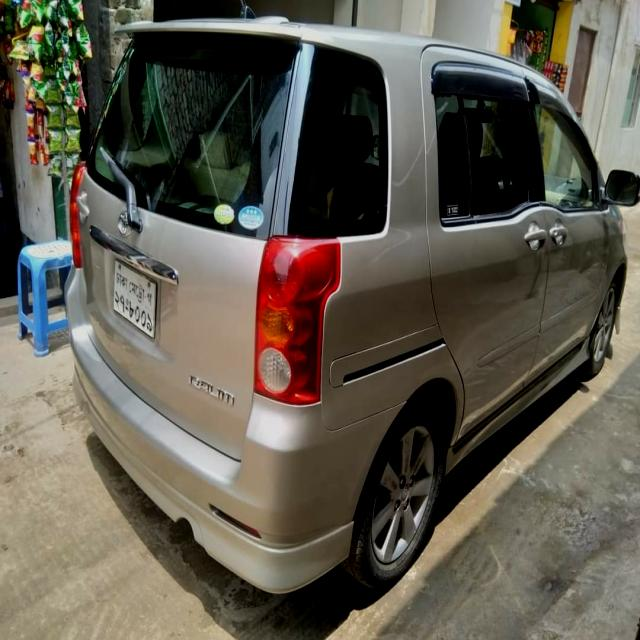silver: (90, 21, 636, 594)
